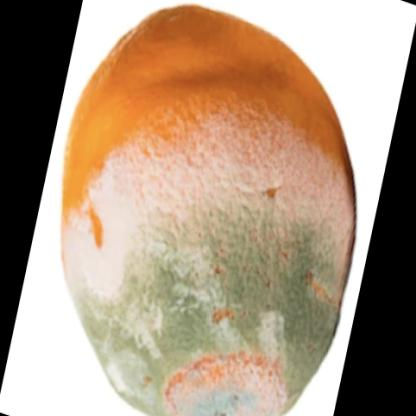rotten: (60, 6, 355, 416)
